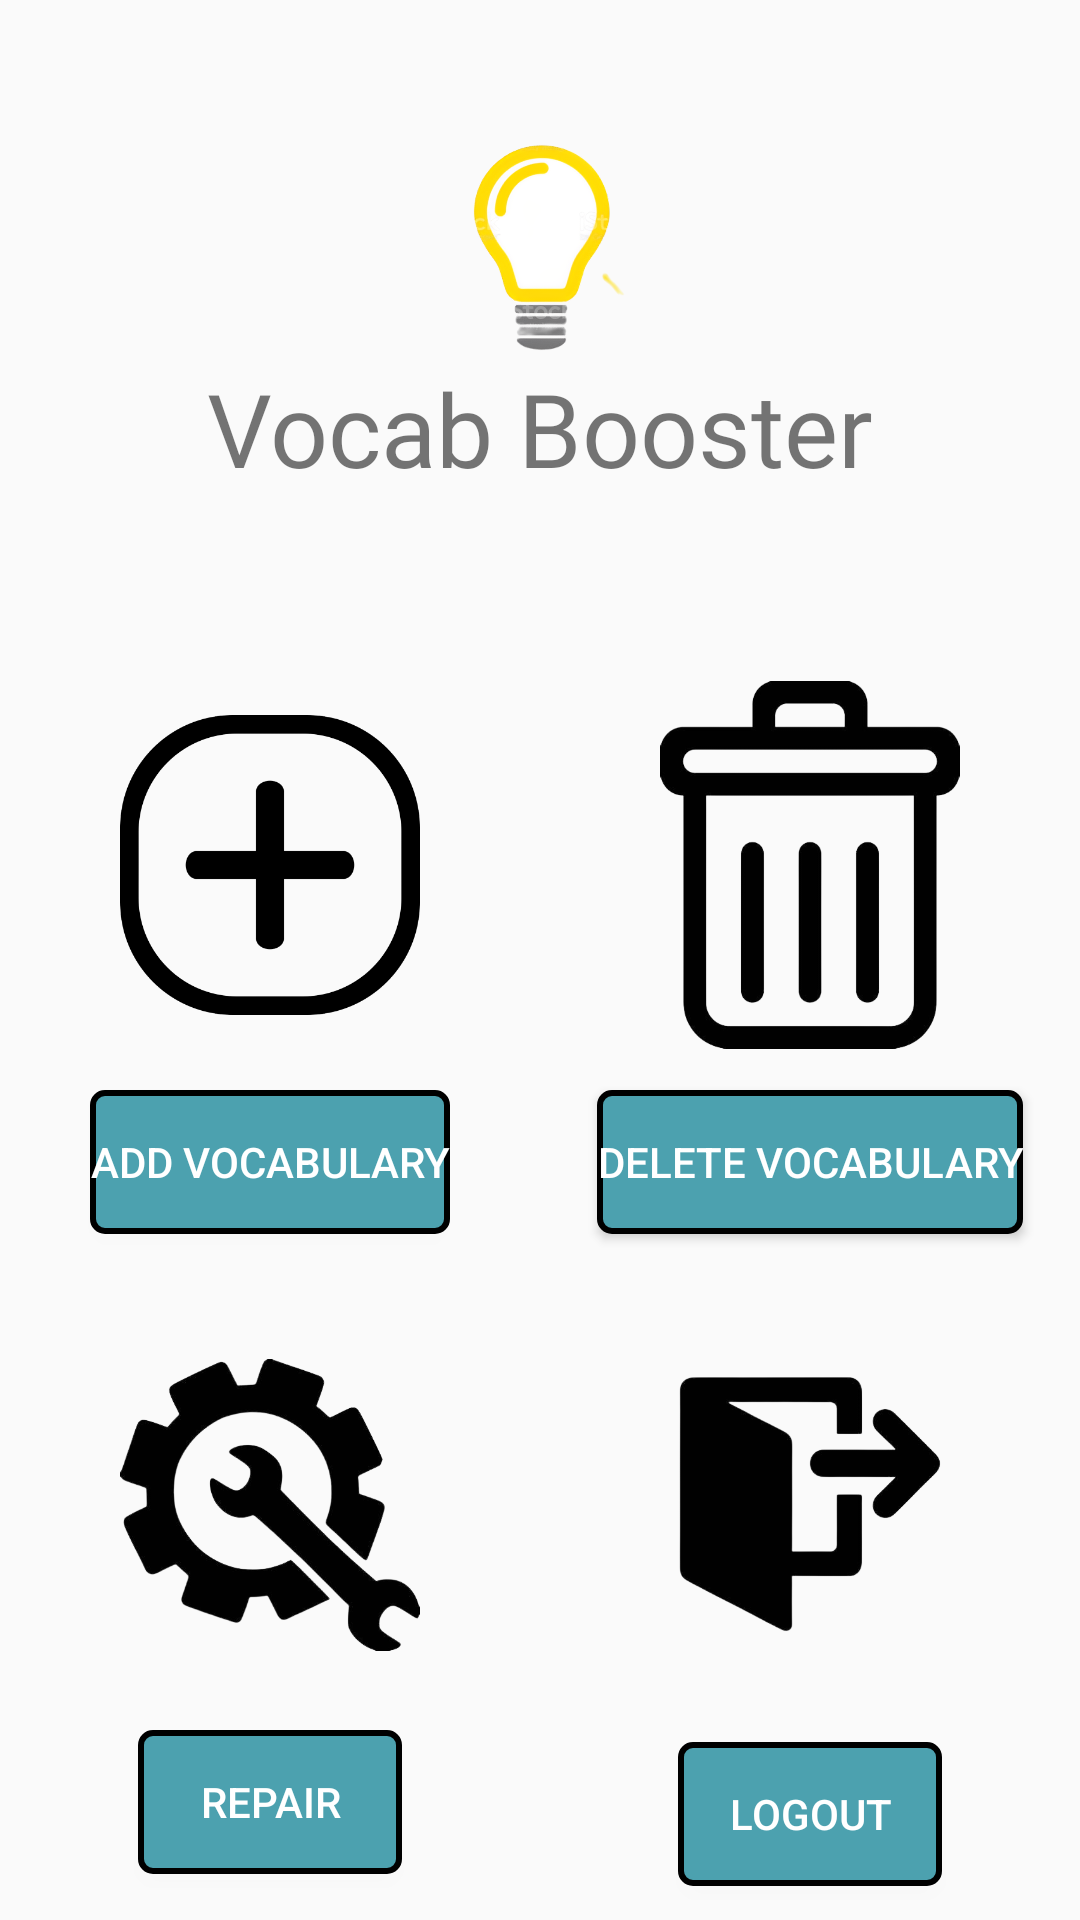

Icon bounding boxes for this 1080×1920 phone screenshot, format Rect(x1, y1, x2, y2):
bongden: Rect(474, 145, 623, 350)
